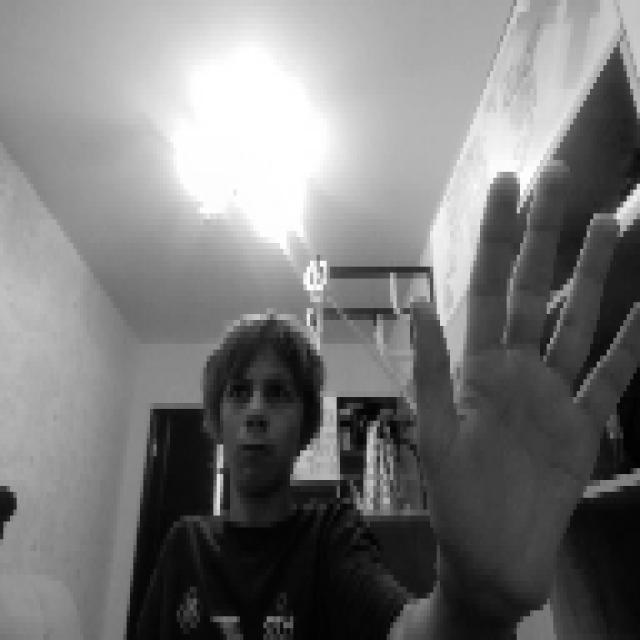hand: (406, 154, 636, 605)
